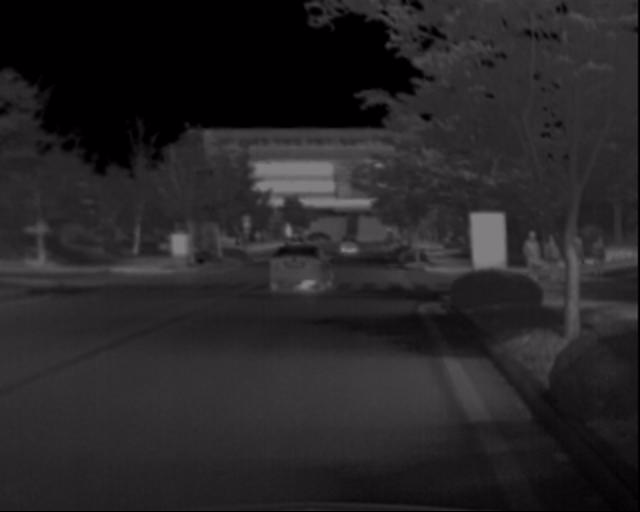person: (521, 226, 548, 288), (591, 234, 611, 282)
